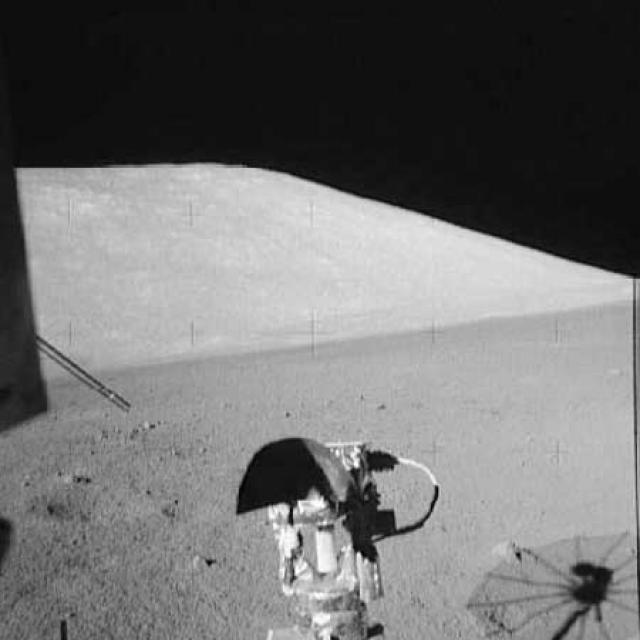artifact: (224, 425, 446, 639), (7, 316, 141, 419)
crater: (27, 477, 174, 531)
